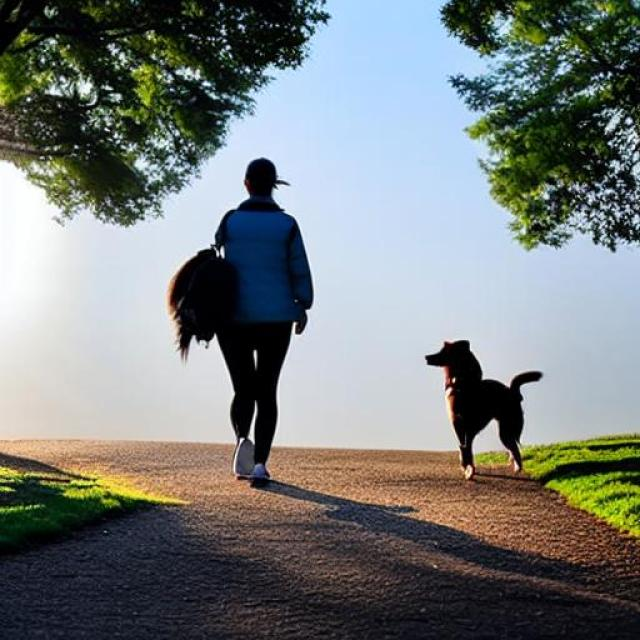Unleashed_Dog: (219, 307, 544, 482)
